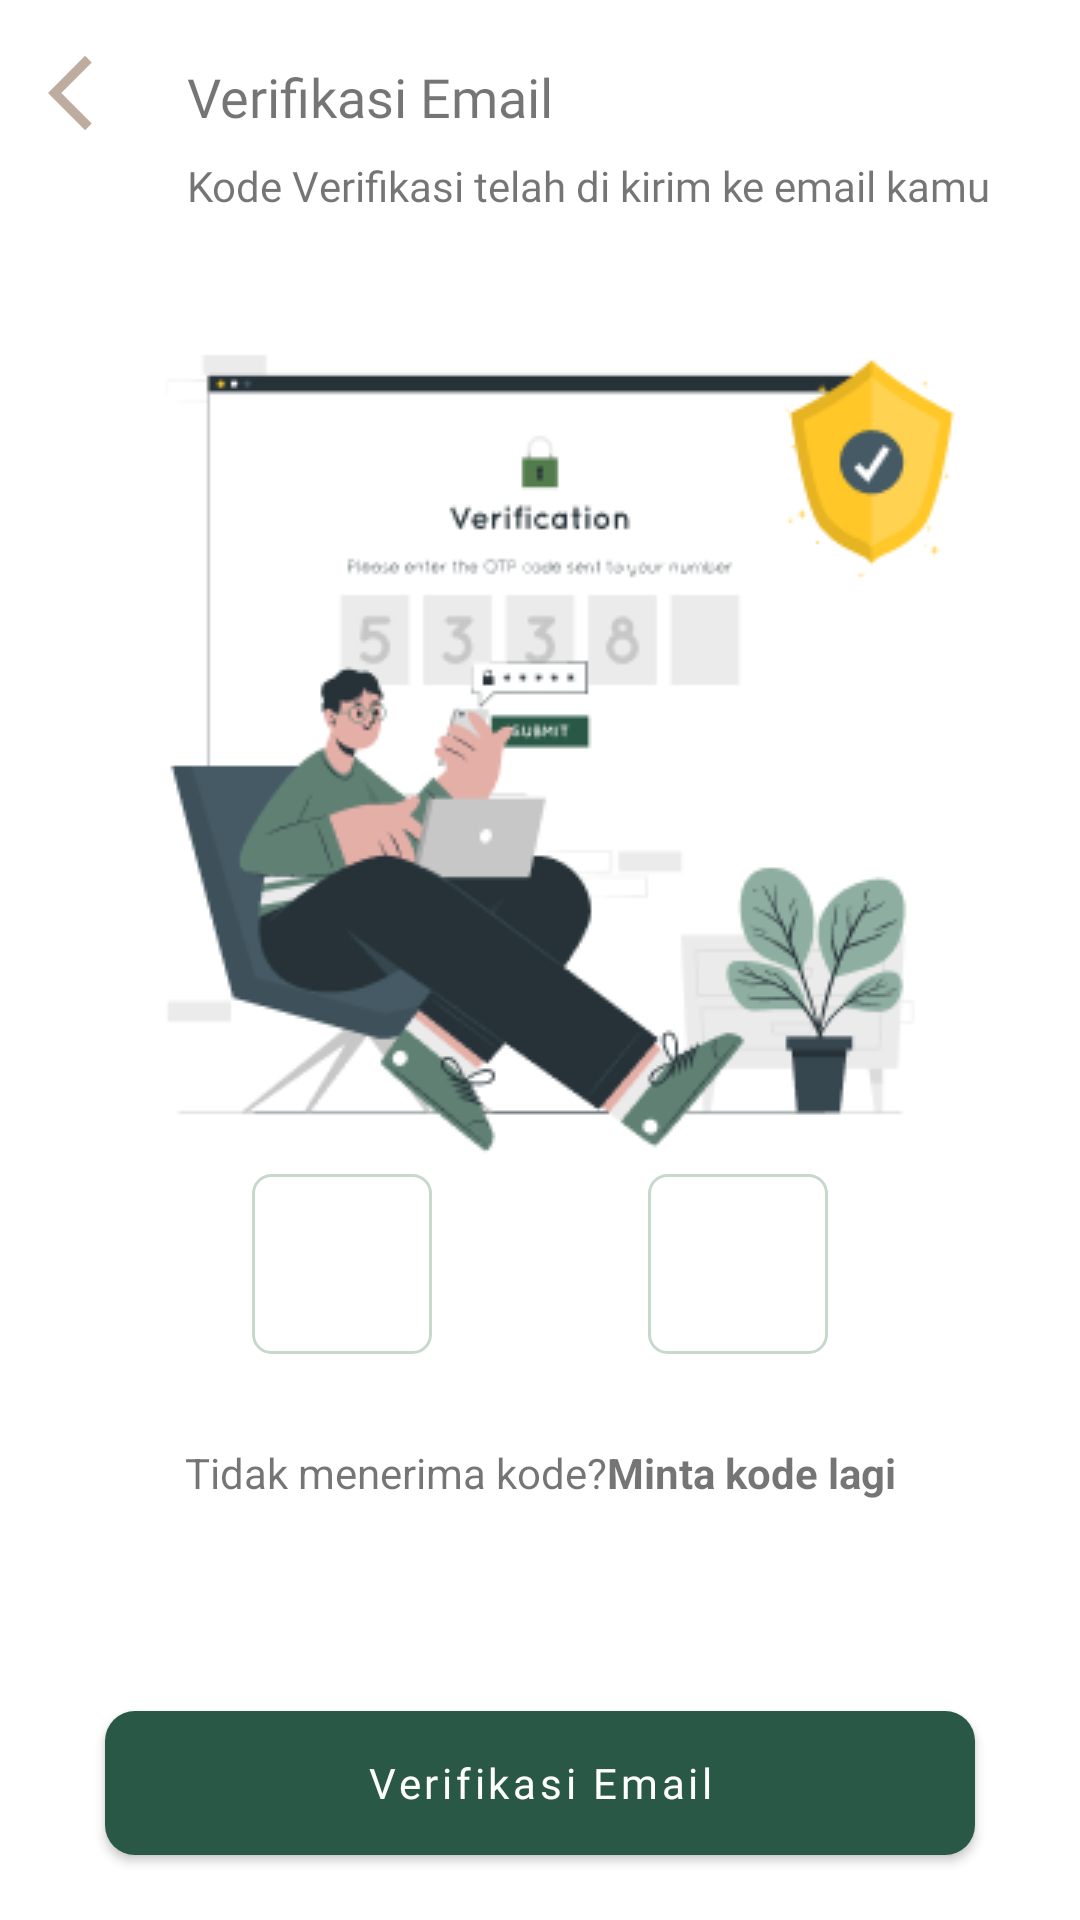

Named icons in this screenshot (1080px x 1920px) and their centers, [x,y]:
arrow back: [70,93]
